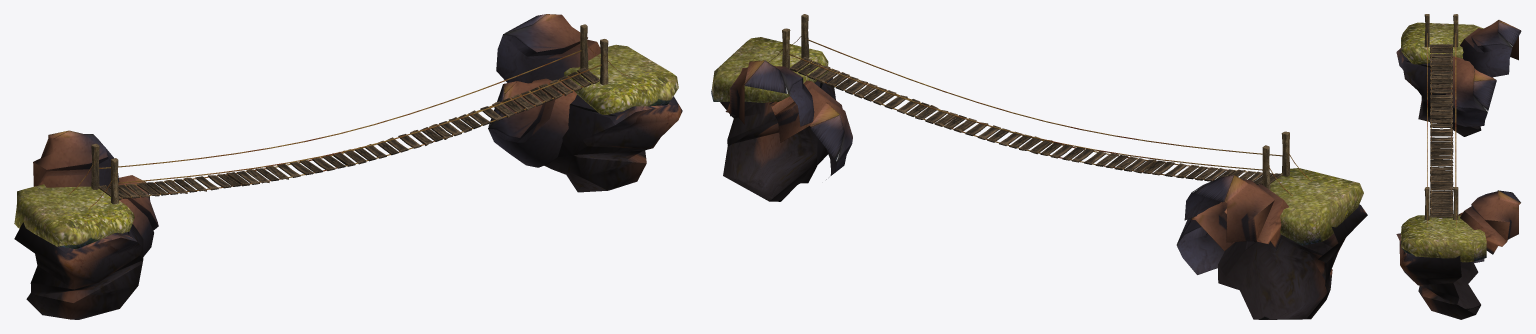
The model's file is Rocher_Pont.FBX.
3 views of the same model, side by side, from view 1: azimuth 30°, elevation 25°; view 2: azimuth 150°, elevation 25°; view 3: azimuth 270°, elevation 25° (orthographic). The views are drawn at different scales.
Visible parts, largest first — view 1: Pont_Suspendu; view 2: Pont_Suspendu; view 3: Pont_Suspendu.
Part boxes in pixels (bbox=[...]): Pont_Suspendu: bbox=[14, 14, 682, 319]; Pont_Suspendu: bbox=[711, 14, 1367, 319]; Pont_Suspendu: bbox=[1396, 14, 1521, 319].
Bounding box in the file's own units: 22.33 × 5.7 × 5.22.
